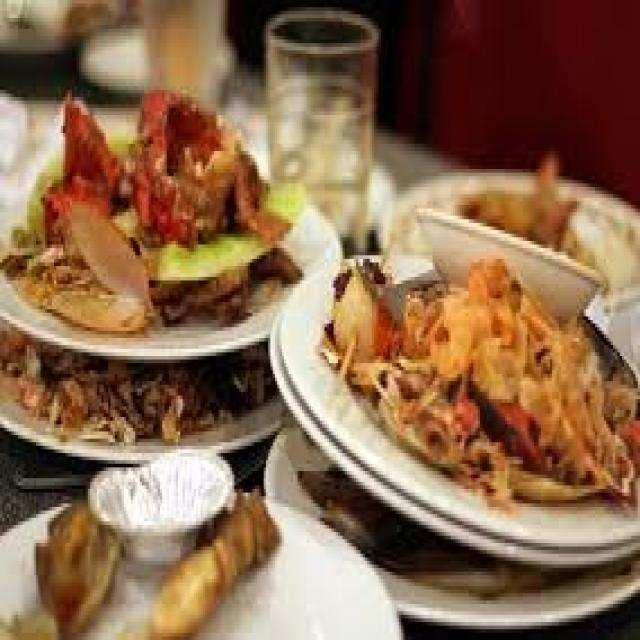Wet: (322, 256, 640, 532), (1, 56, 272, 337), (0, 452, 282, 640)
